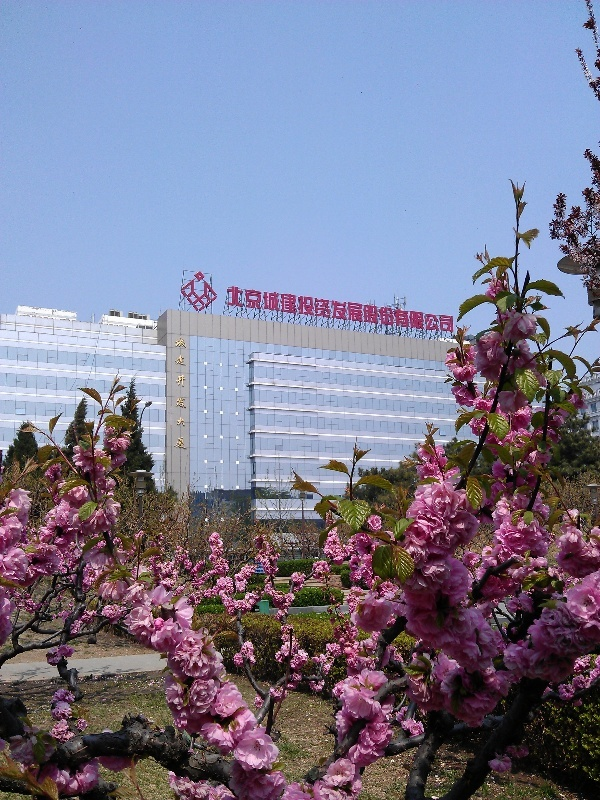text: (177, 335, 188, 451), (241, 285, 256, 334), (257, 285, 272, 334), (273, 285, 288, 334), (289, 285, 304, 334), (305, 285, 320, 334), (321, 285, 336, 334), (337, 285, 352, 334), (353, 285, 368, 334), (369, 285, 384, 334), (385, 285, 400, 334), (401, 285, 416, 334), (417, 285, 432, 334), (433, 285, 448, 334), (227, 285, 240, 334), (449, 285, 456, 334), (175, 335, 176, 451)
